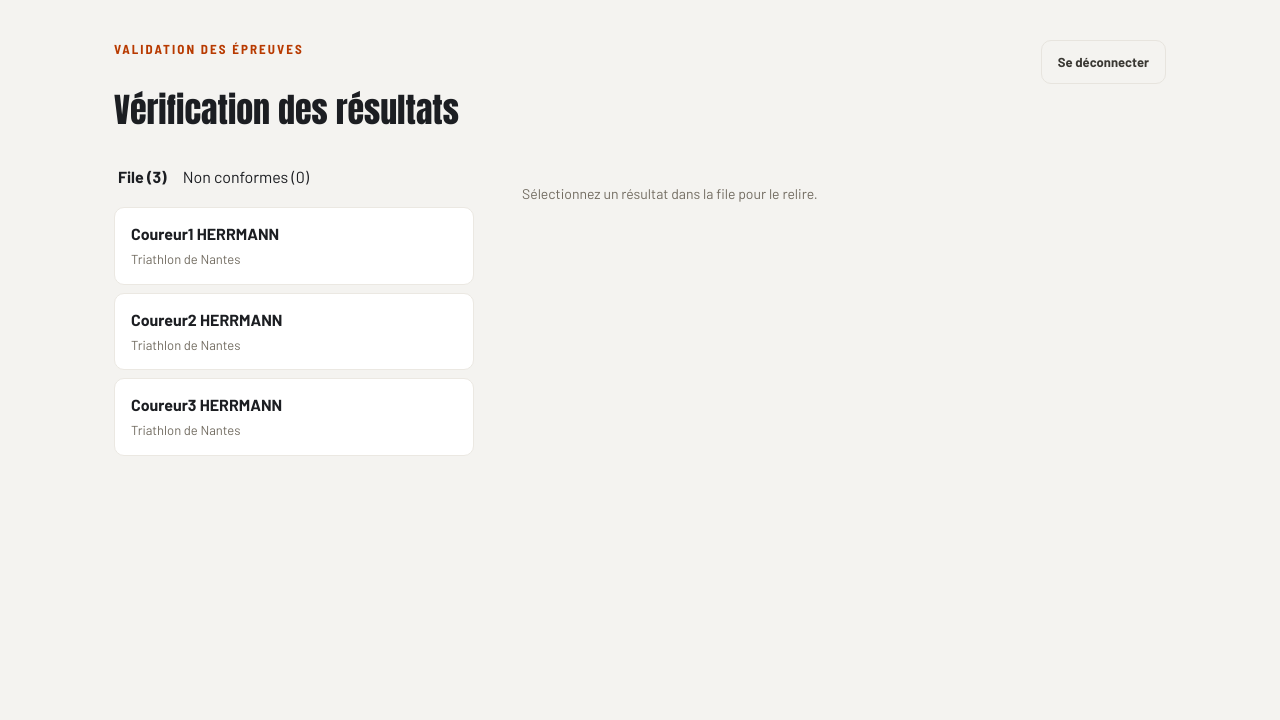
it: BenevolesPage › offre un bouton de fermeture tactile dans la feuille mobile
expect the text "Coureur1 HERRMANN" is shown: met, box [131,222,279,246]
Click the button "Coureur1 HERRMANN Triathlon de Nantes".
click(162, 234)  # box [114,207,474,284]
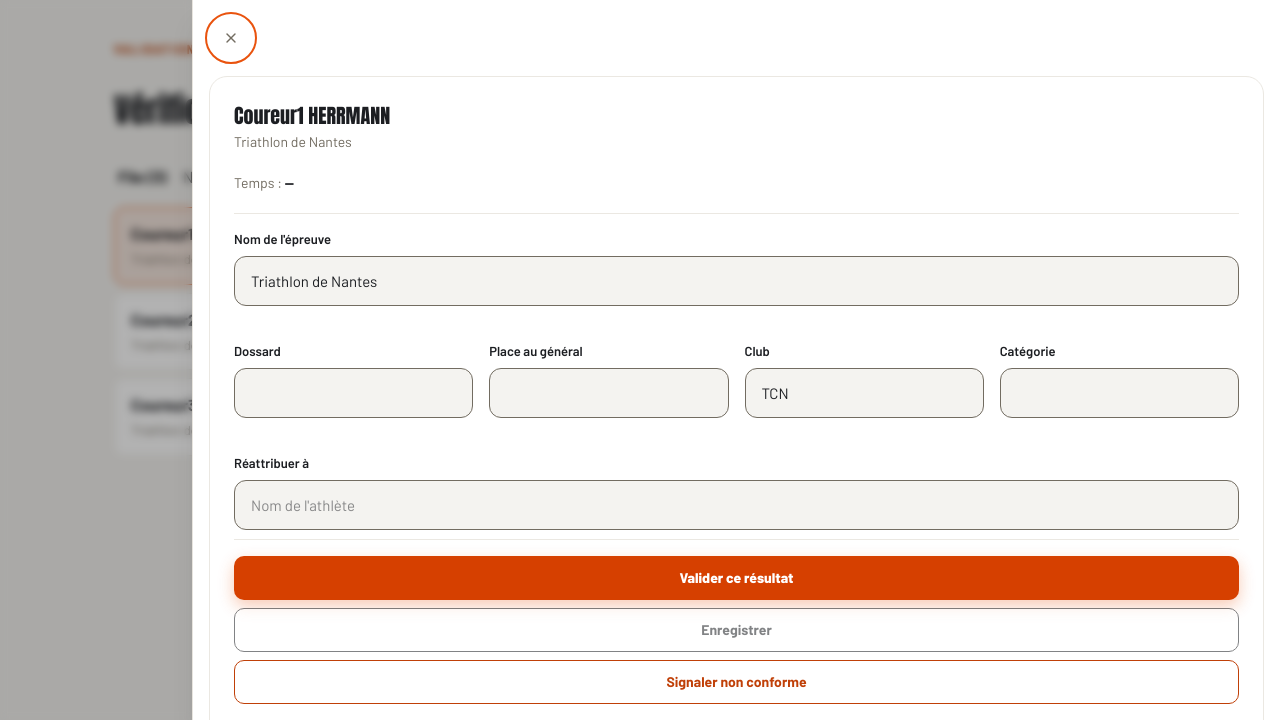
expect the dialog is shown: met
Click the button named "fermer le détail du résultat".
click(231, 38)  # box [209,16,253,60]
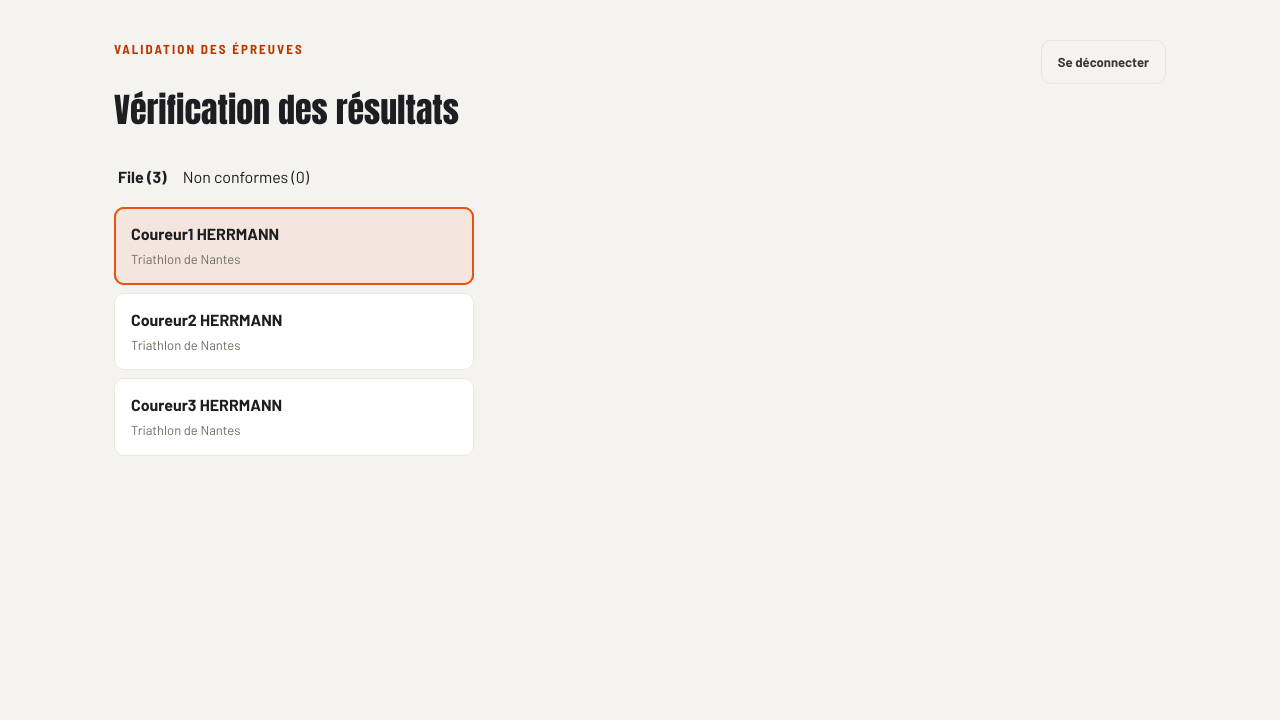
expect the dialog is gone: met
